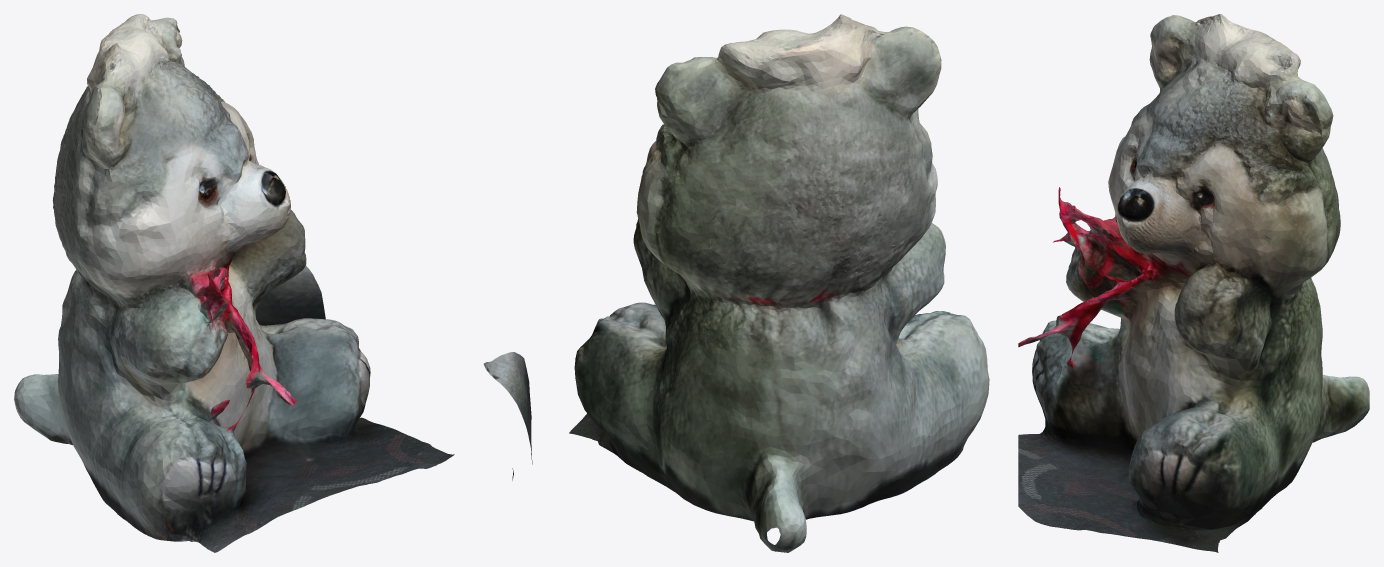
The picture shows the model from 3 angles, left to right: view 1: azimuth 30°, elevation 25°; view 2: azimuth 150°, elevation 25°; view 3: azimuth 270°, elevation 25°; orthographic projection. The views are drawn at different scales.
Size of the model in its own units: 0.7497 by 1.02 by 0.7707.
Materials: 1 (1 with a texture image).
